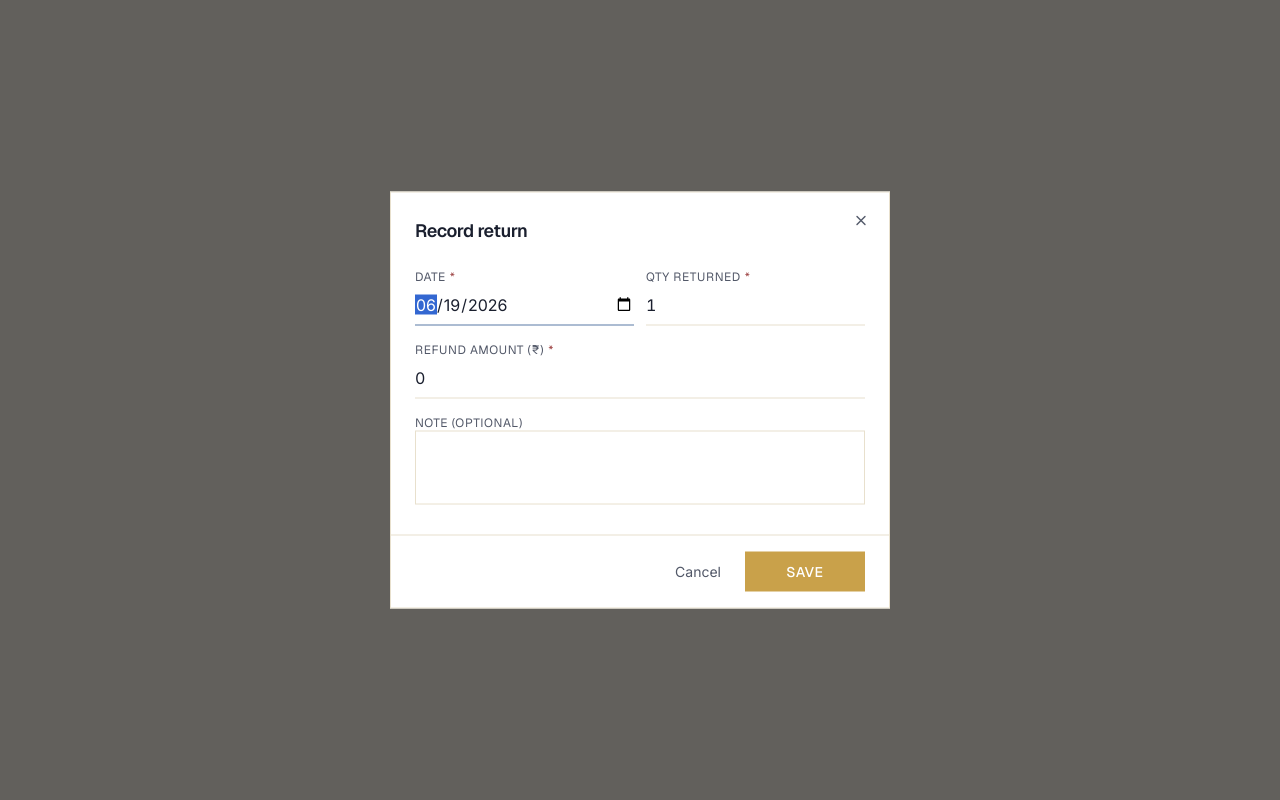
ReturnActionModal — entityType=sale › surfaces server qtyReturned error on the qty field
Type "100" into the number field labelled "Refund amount (₹)*" at (640, 378), box [415,358,865,398]
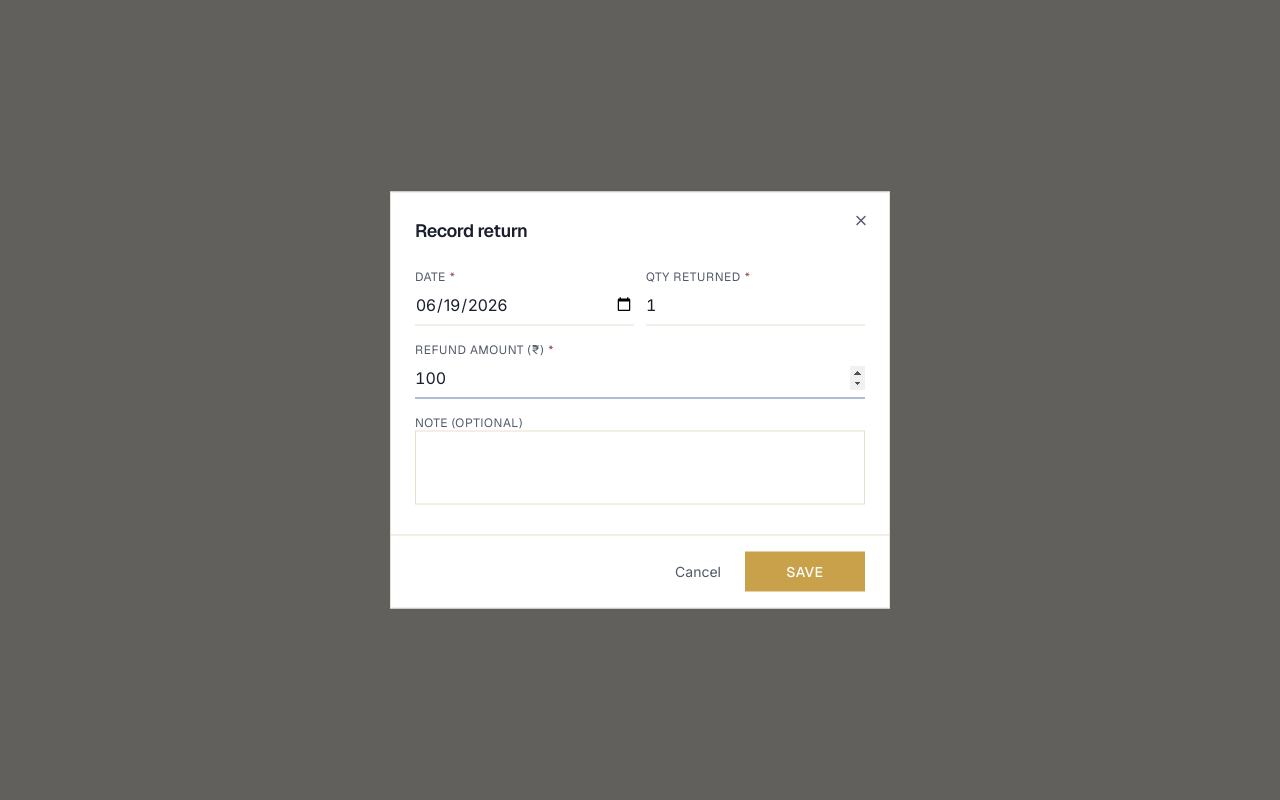
Click the button "Save" at (805, 572), box [745,552,865,592]
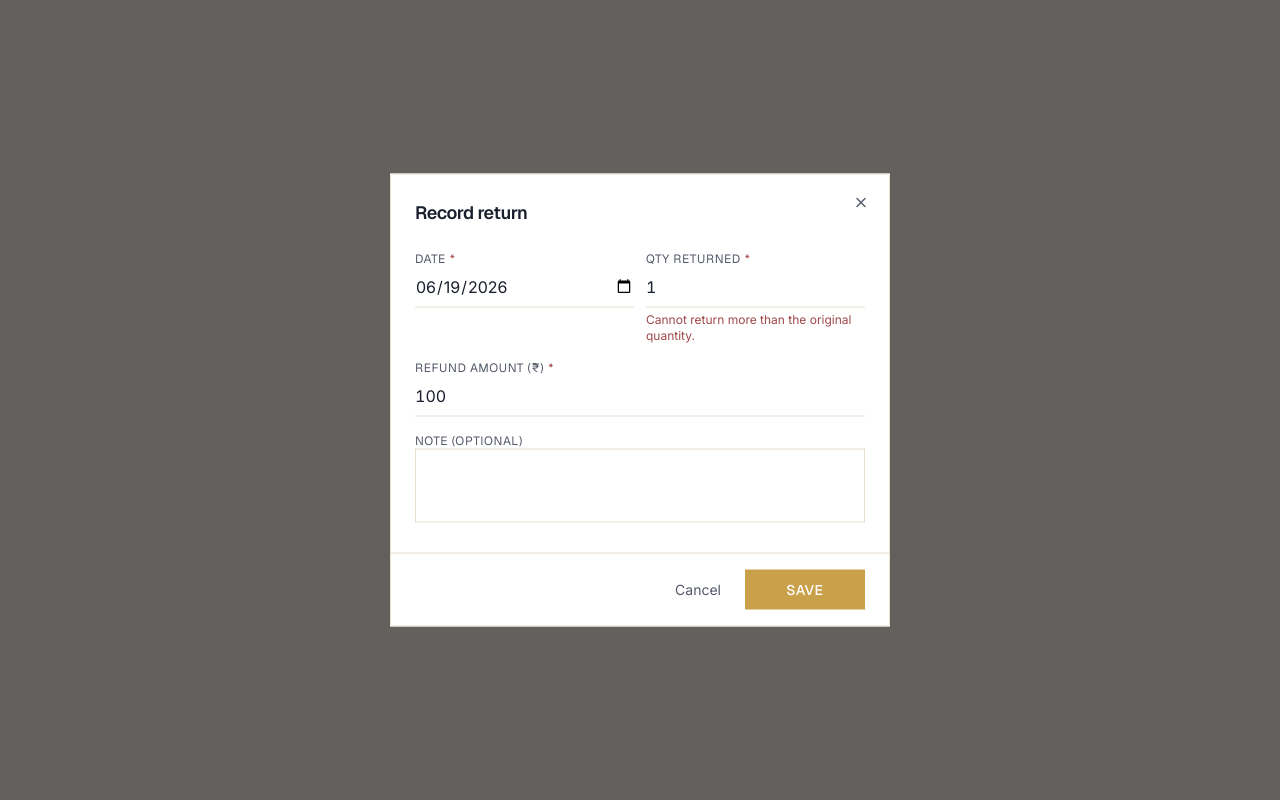
Expected: the text "Cannot return more than the original quantity." is shown, [646,312,865,344]
